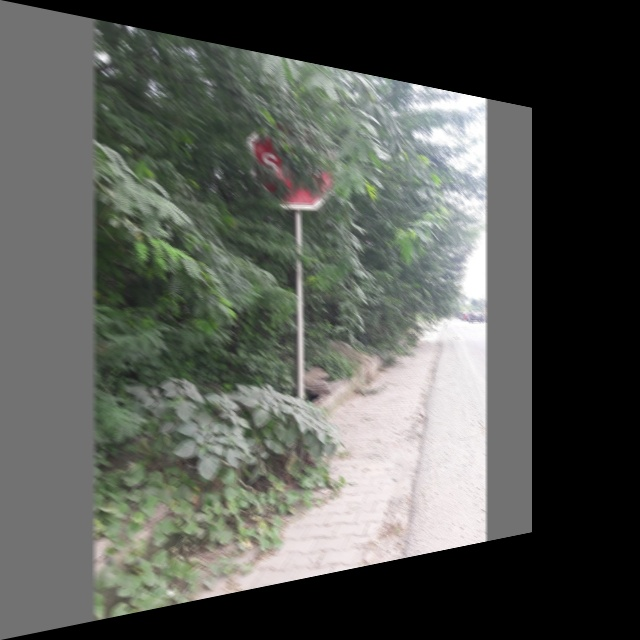Stop: (247, 119, 332, 212)
